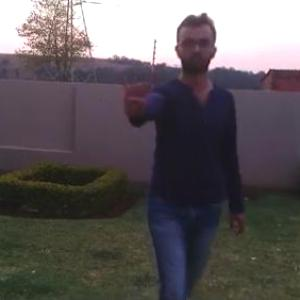takeoff-hand: (112, 71, 155, 116)
